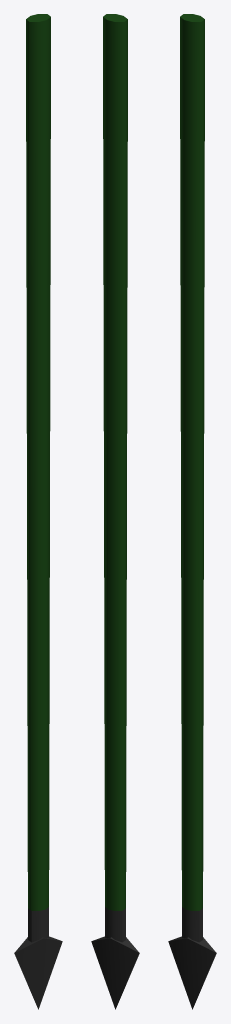
Rendered from PT_Pike_01_a.glb.
The picture shows the model from 3 angles, left to right: view 1: azimuth 30°, elevation 25°; view 2: azimuth 150°, elevation 25°; view 3: azimuth 330°, elevation 25°; orthographic projection.
Visible parts, largest first — view 1: PT_Pike_01_a; view 2: PT_Pike_01_a; view 3: PT_Pike_01_a.
Boxes of the visible parts, x1,y1,x2,y2 form: PT_Pike_01_a: (14,14,62,1009); PT_Pike_01_a: (91,14,139,1009); PT_Pike_01_a: (168,14,216,1009).
Size of the model in its own units: 0.1447 by 2.82 by 0.0541.
Materials: 1 (1 with a texture image).
